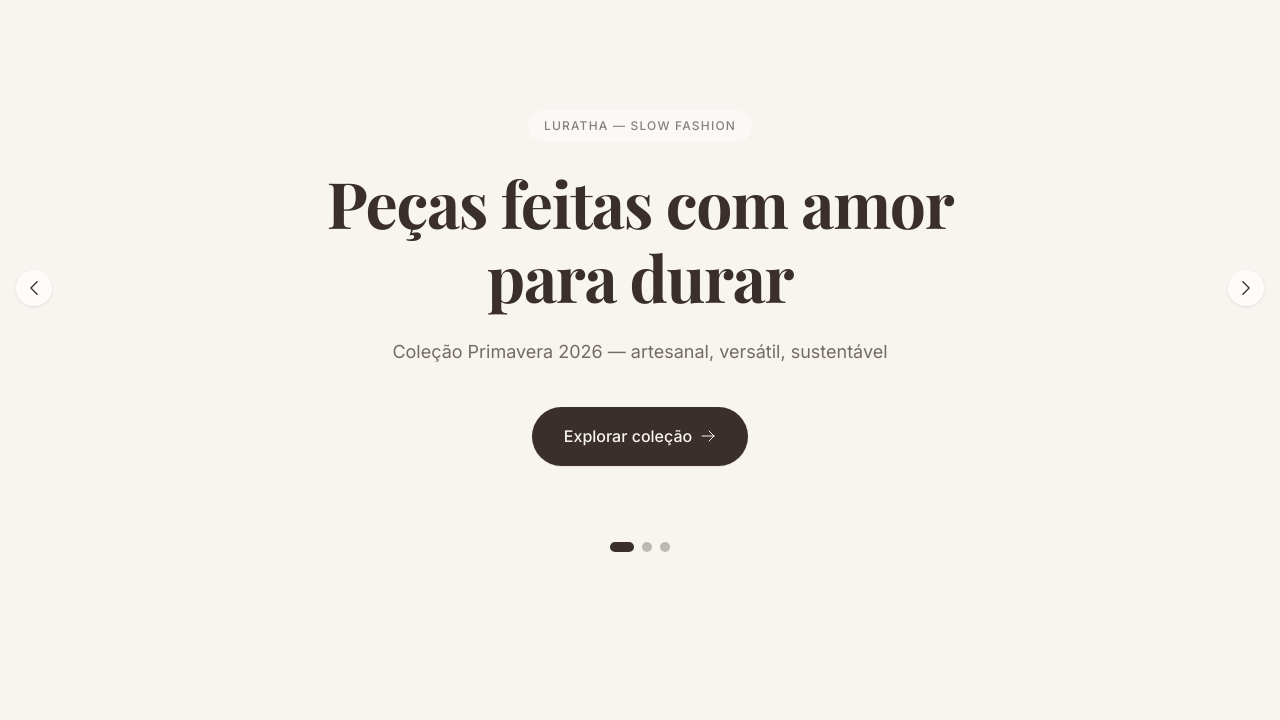
Test: HeroBanner › goes back to previous slide when prev button is clicked
The width and height of the screenshot is (1280, 720).
Note: Advance to slide 2 first
Click the button named "Próximo slide" at (1246, 288), box [1228,270,1264,306]
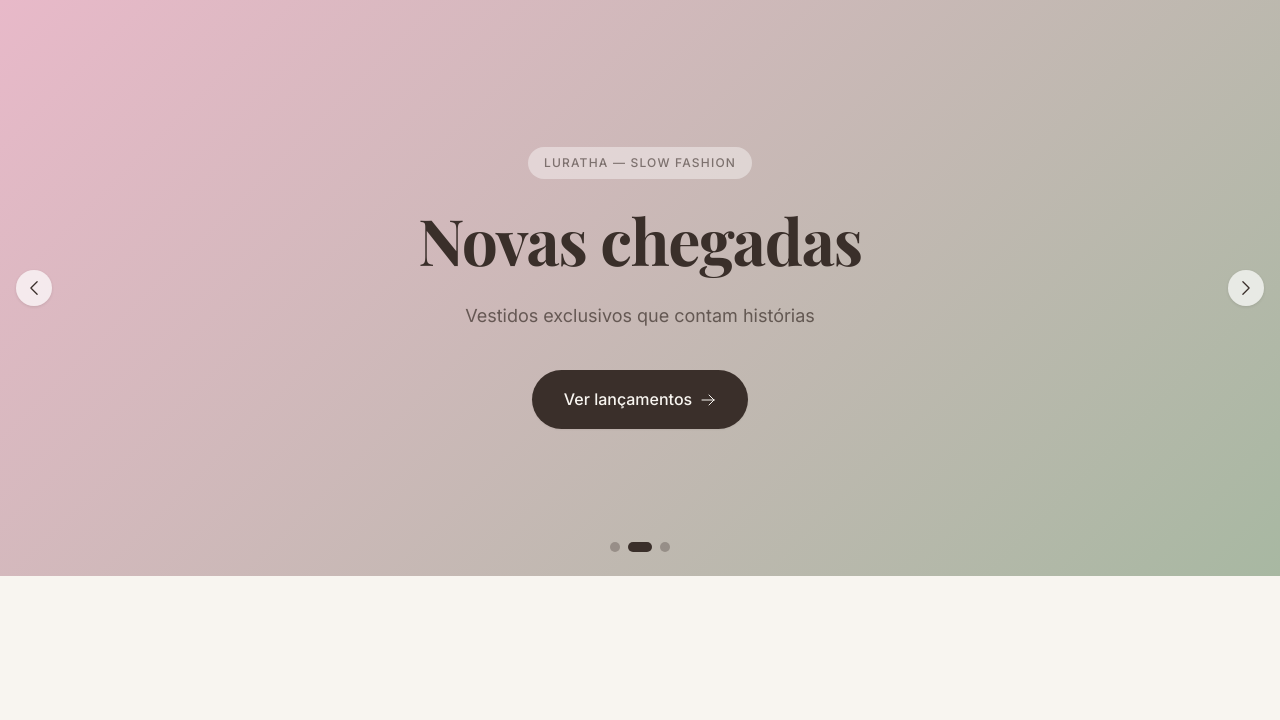
Note: Then go back
Click the button named "Slide anterior" at (34, 288), box [16,270,52,306]
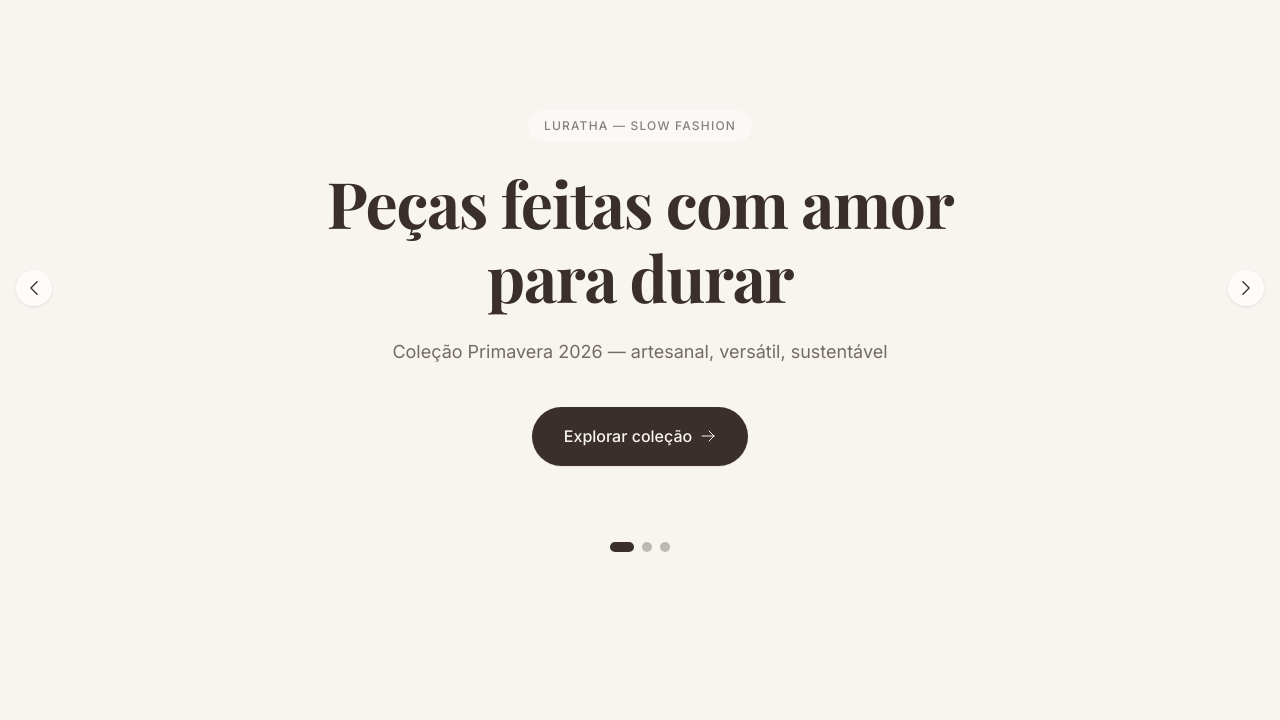
Expected: the heading "Peças feitas com amor para durar" is shown, [304,166,976,314]
